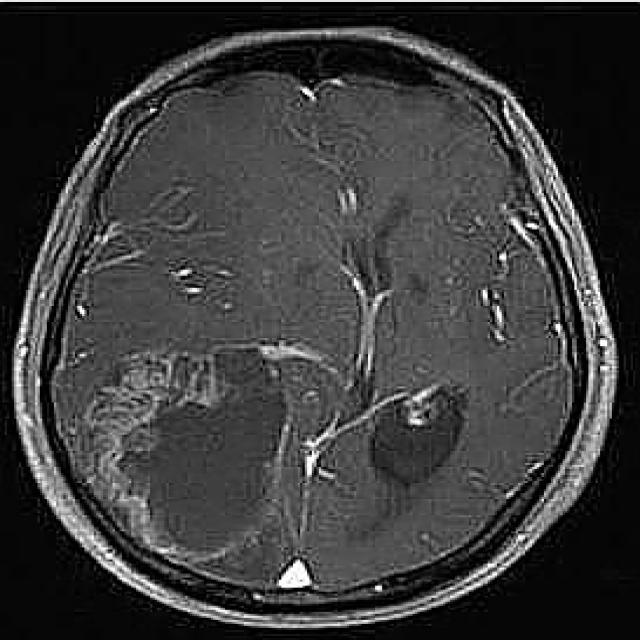Tumor-Cell: (74, 345, 337, 565)
